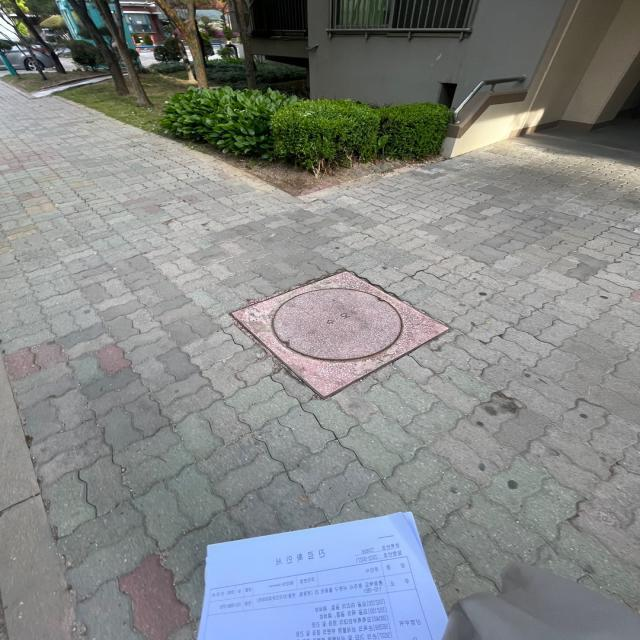Sewer Cover: (219, 265, 458, 405)
